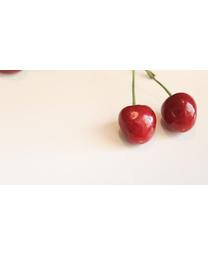cherry: (117, 105, 157, 145), (160, 94, 198, 133)
